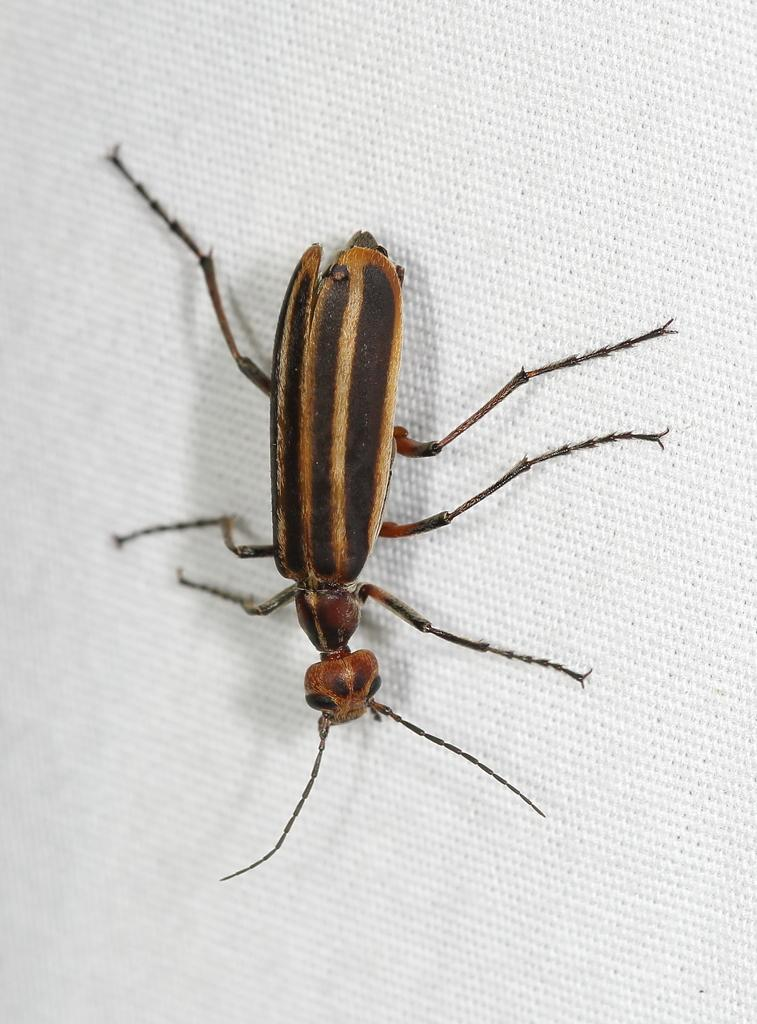blister_beetle: (0, 60, 757, 955)
